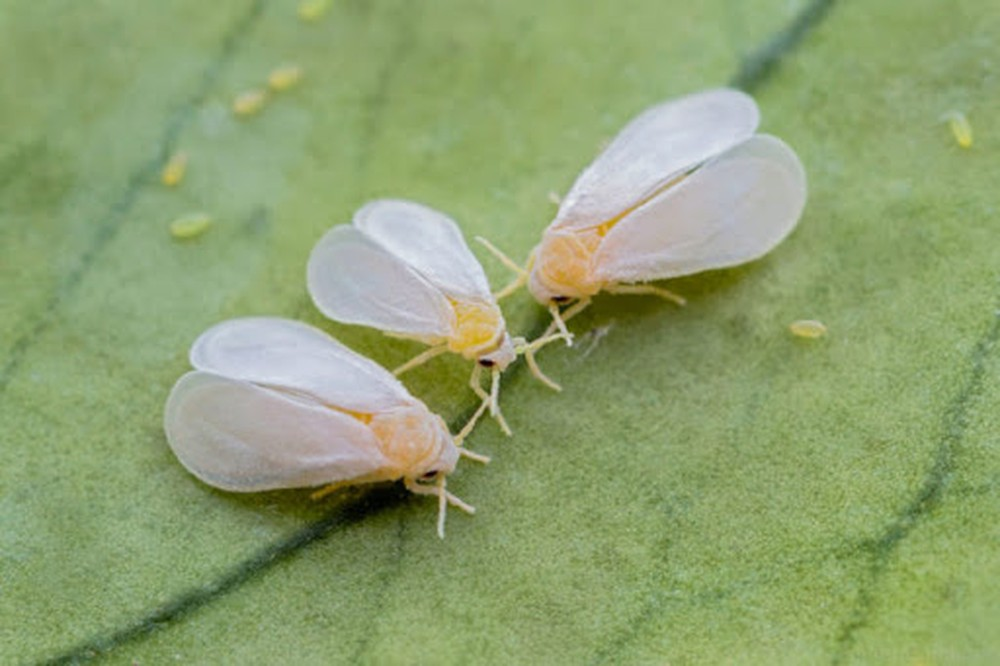Mosca Blanca: (493, 72, 823, 347), (171, 310, 504, 557), (313, 191, 589, 431)
